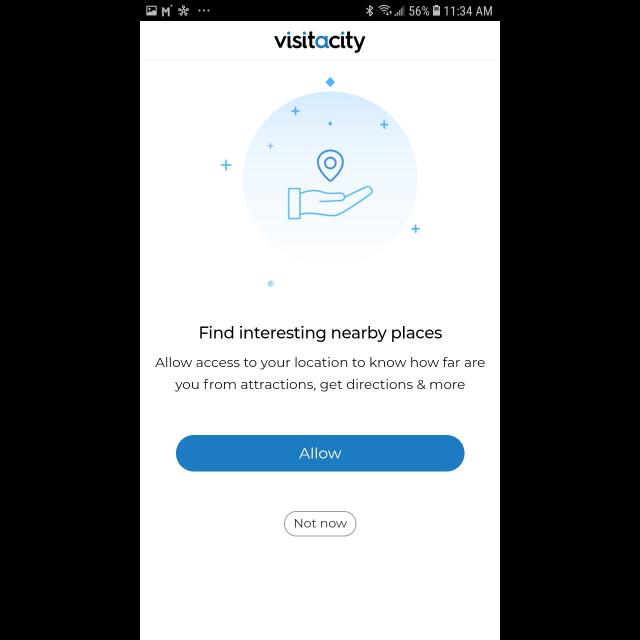image: (220, 76, 420, 288), (274, 31, 366, 53)
text: (156, 356, 484, 392), (200, 326, 442, 342)
textbutton: (176, 434, 464, 472), (284, 511, 356, 537)
uppertaskbar: (140, 1, 500, 22)
